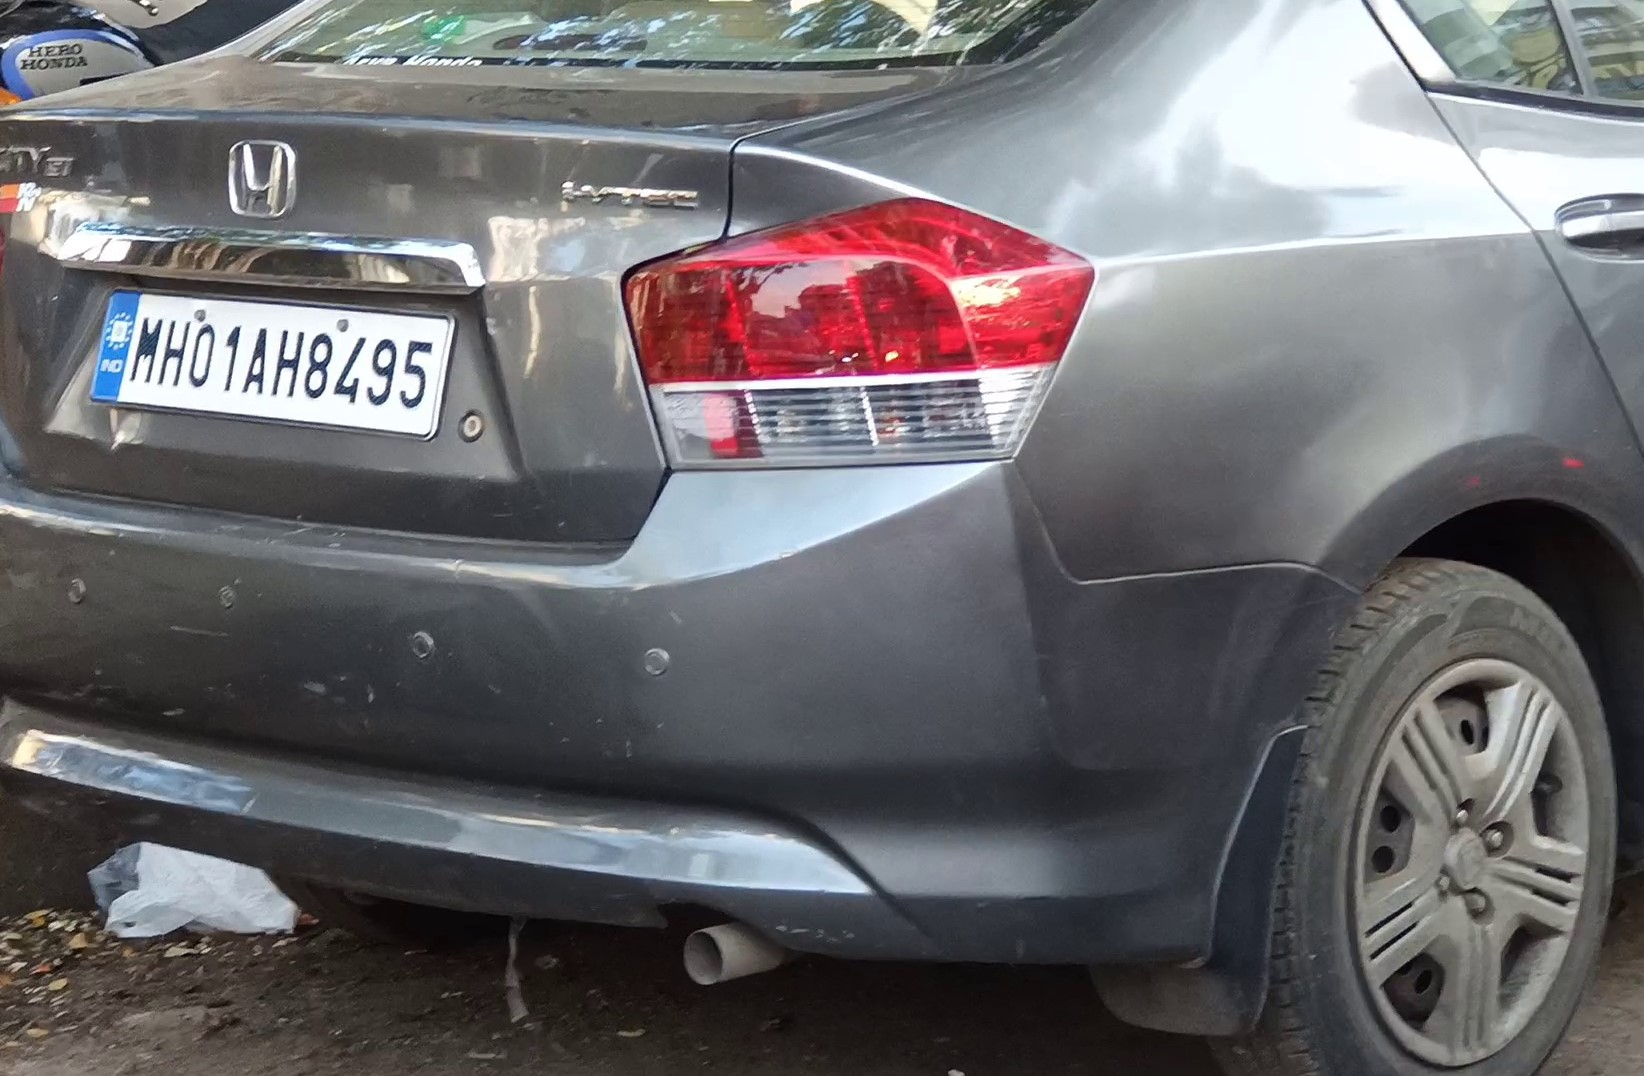MH01AH8495: (91, 289, 448, 438)
